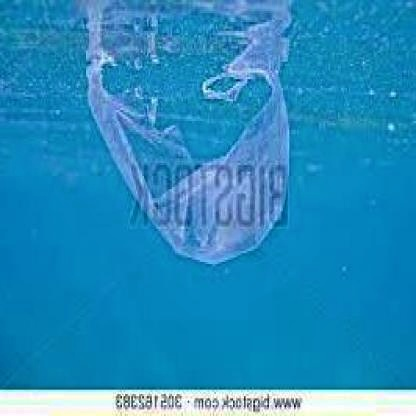pbag: (76, 57, 292, 269)
